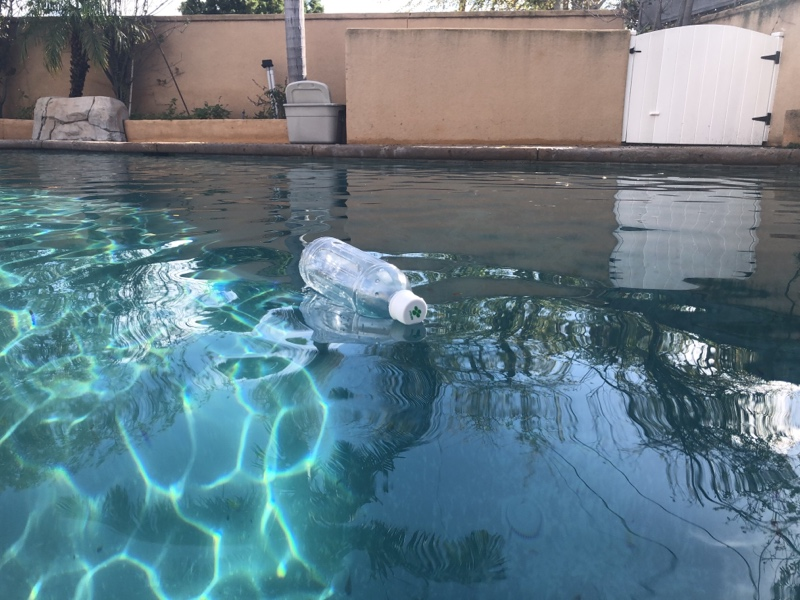Plastic Bottle: (296, 232, 430, 330)
